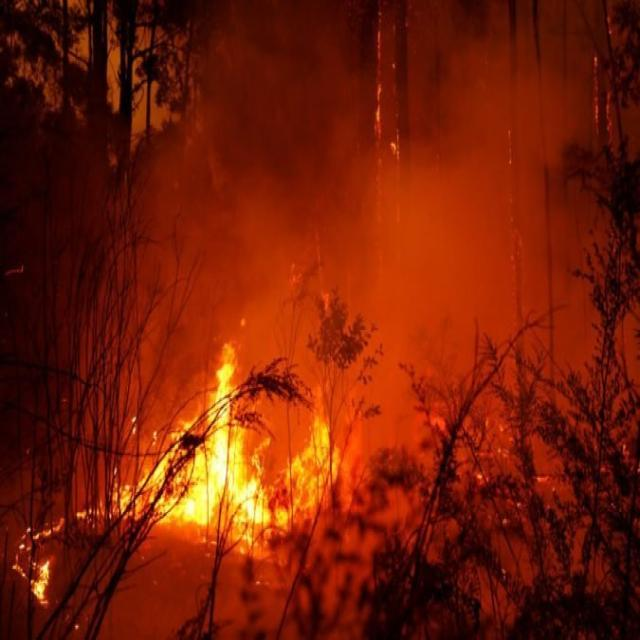Fire: (18, 343, 340, 605)
Smoke: (119, 22, 572, 339)
